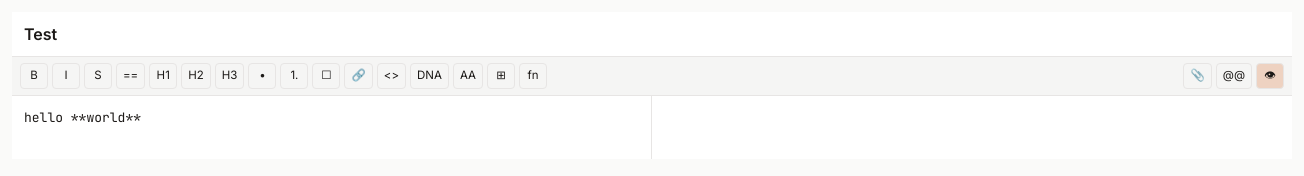
Test: NB-K10 — preview toggle hides/shows preview pane › starts visible, toggles via 👁 button
The width and height of the screenshot is (1304, 176).
What coordinates should you click on to do the following:
click the button with test id "nb-tb-preview"
I would click on:
 (1270, 76)
Its box is [1256,63,1284,89].
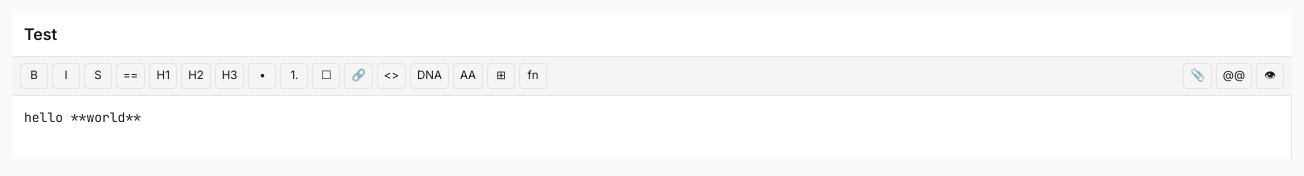
What coordinates should you click on to do the following:
click the button with test id "nb-tb-preview"
I would click on:
 (1270, 76)
Its box is [1256,63,1284,89].
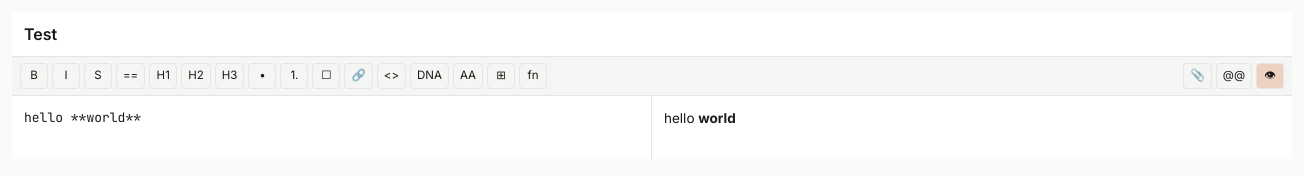
Check: the element with test id "notebook-preview" is shown, box [664,110,736,126]
